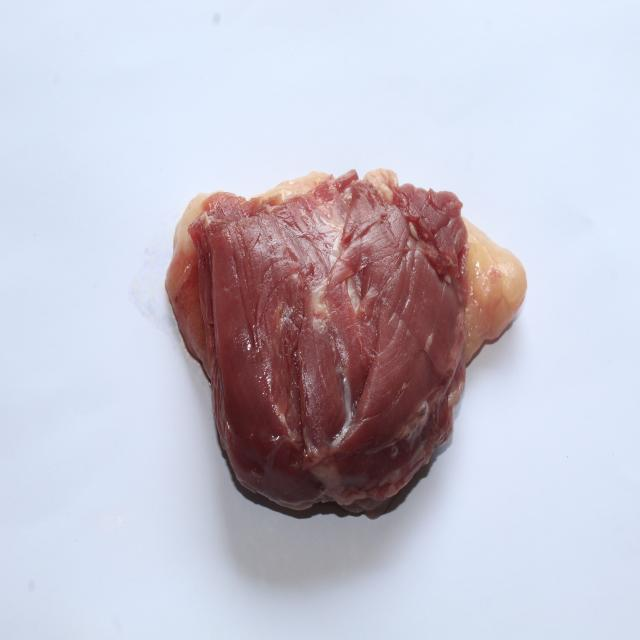Beef: (145, 134, 545, 530)
